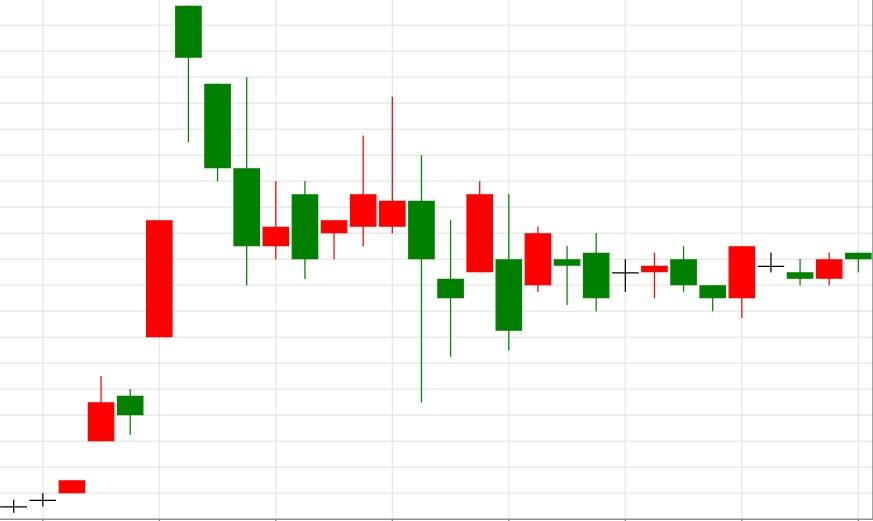bullish_engulfing_rise: (582, 233, 757, 319)
shooting_star_fall: (291, 97, 407, 279)
three_black_crows_fall: (0, 5, 261, 513)
